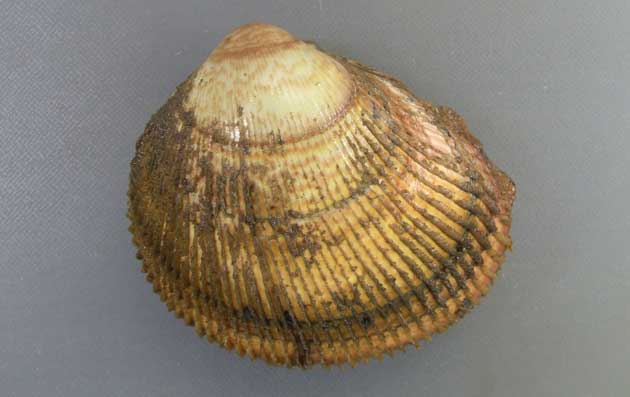cockle: (123, 16, 520, 377)
